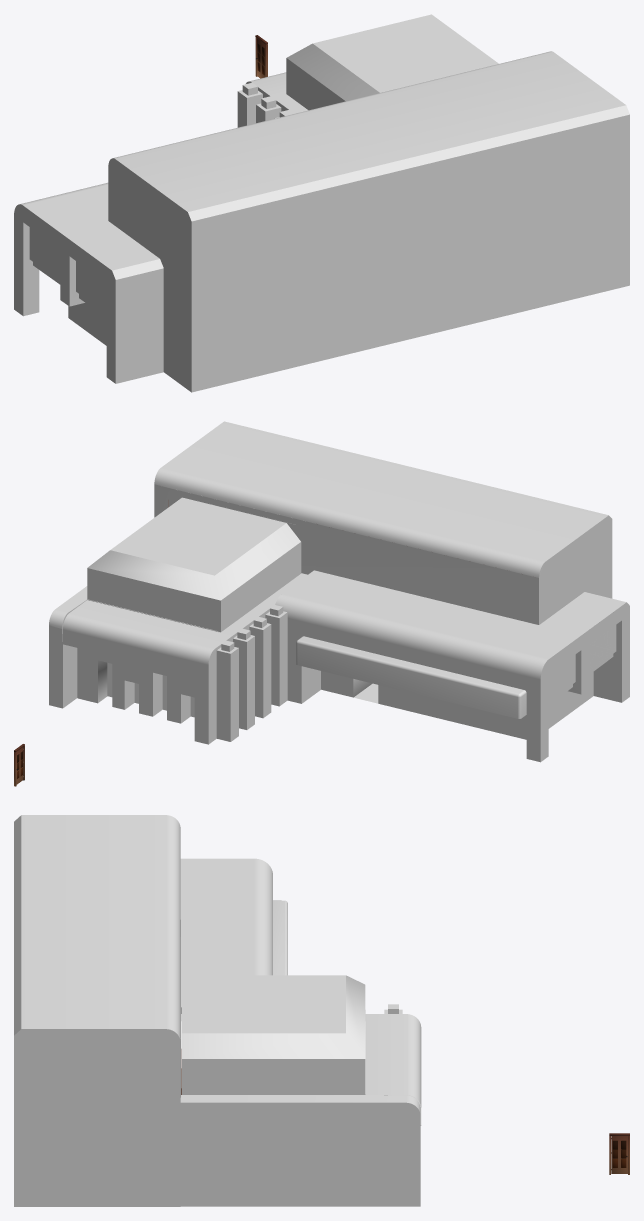
File: FachadaConsultorio.fbx
3 views of the same model, one above another, from view 1: azimuth 30°, elevation 25°; view 2: azimuth 150°, elevation 25°; view 3: azimuth 270°, elevation 25° (orthographic). The views are drawn at different scales.
Parts seen in each view (by area): view 1: hospital.3.0_Cuerpo 03, hospital.3.0_Cuerpo 03.006; view 2: hospital.3.0_Cuerpo 03, hospital.3.0_Cuerpo 03.006, hospital.3.0_Cuerpo 03.002, hospital.3.0_Cuerpo 03.004, hospital.3.0_Cuerpo 03.001, Cubo.002; view 3: hospital.3.0_Cuerpo 03, hospital.3.0_Cuerpo 03.001, hospital.3.0_Cuerpo 03.006, Cube.001.
Part boxes in pixels (bbox=[...]): hospital.3.0_Cuerpo 03: bbox=[14, 51, 629, 392]; hospital.3.0_Cuerpo 03.006: bbox=[286, 14, 498, 110]; hospital.3.0_Cuerpo 03: bbox=[63, 421, 629, 762]; hospital.3.0_Cuerpo 03.006: bbox=[87, 497, 301, 632]; hospital.3.0_Cuerpo 03.002: bbox=[77, 648, 194, 723]; hospital.3.0_Cuerpo 03.004: bbox=[321, 671, 526, 739]; hospital.3.0_Cuerpo 03.001: bbox=[49, 586, 87, 708]; Cubo.002: bbox=[87, 599, 218, 717]; hospital.3.0_Cuerpo 03: bbox=[14, 815, 421, 1206]; hospital.3.0_Cuerpo 03.001: bbox=[180, 1095, 420, 1206]; hospital.3.0_Cuerpo 03.006: bbox=[182, 975, 365, 1094]; Cube.001: bbox=[609, 1133, 629, 1174].
Size of the model in its own units: 10016 by 3497 by 10971.
